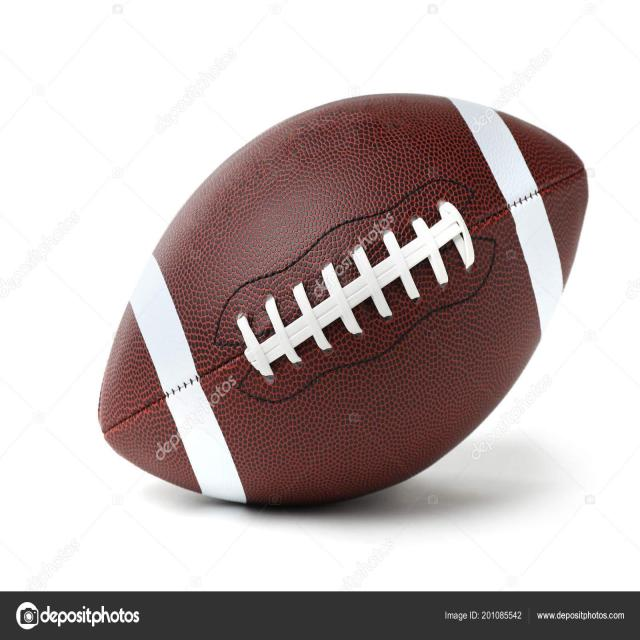ball: (92, 82, 593, 520)
